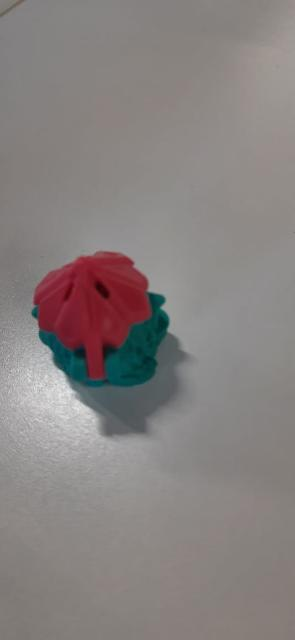House: (35, 242, 169, 394)
